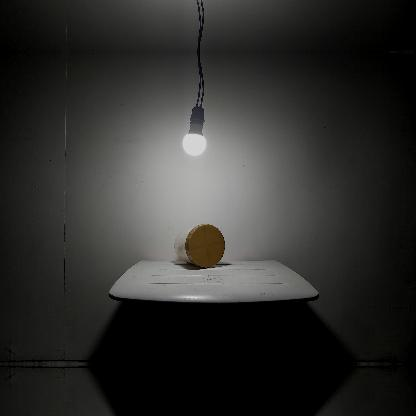Lady-s-Choice: (174, 222, 226, 266)
